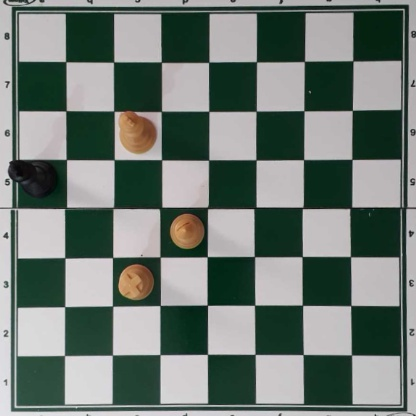black-king: (7, 158, 60, 200)
white-bishop: (169, 212, 206, 250)
white-king: (119, 107, 155, 153)
white-rook: (117, 264, 155, 299)
